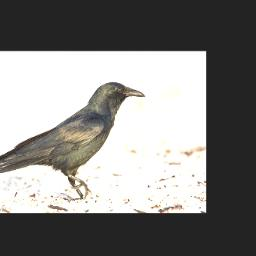Crow: (0, 81, 147, 200)
